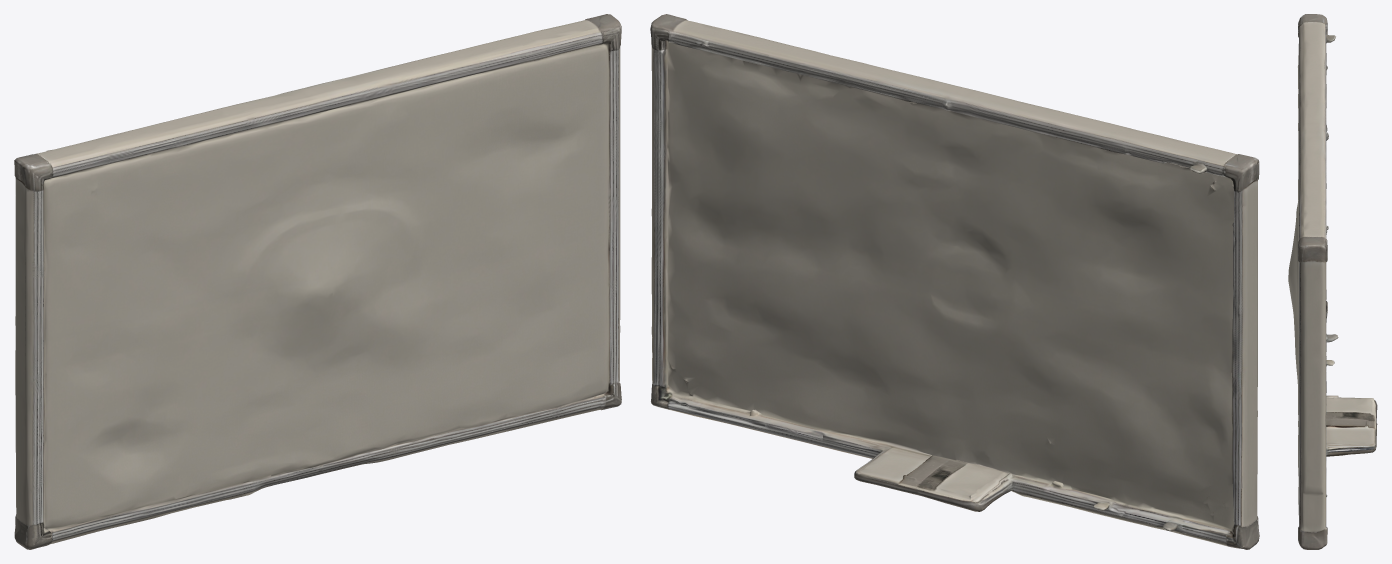
File: theme-meeting-board-v05.glb
The picture shows the model from 3 angles, left to right: view 1: azimuth 30°, elevation 25°; view 2: azimuth 150°, elevation 25°; view 3: azimuth 270°, elevation 25°; orthographic projection. The views are drawn at different scales.
Parts seen in each view (by area): view 1: tripo_node_24da3e1f-68ab-4cd7-b2e0-8161c232e870; view 2: tripo_node_24da3e1f-68ab-4cd7-b2e0-8161c232e870; view 3: tripo_node_24da3e1f-68ab-4cd7-b2e0-8161c232e870.
Boxes of the visible parts, x1,y1,x2,y2 form: tripo_node_24da3e1f-68ab-4cd7-b2e0-8161c232e870: [14, 14, 621, 549]; tripo_node_24da3e1f-68ab-4cd7-b2e0-8161c232e870: [650, 14, 1259, 549]; tripo_node_24da3e1f-68ab-4cd7-b2e0-8161c232e870: [1288, 14, 1377, 549].
Size of the model in its own units: 1.78 by 1.1 by 0.2892.
1 material, 1 textured.
